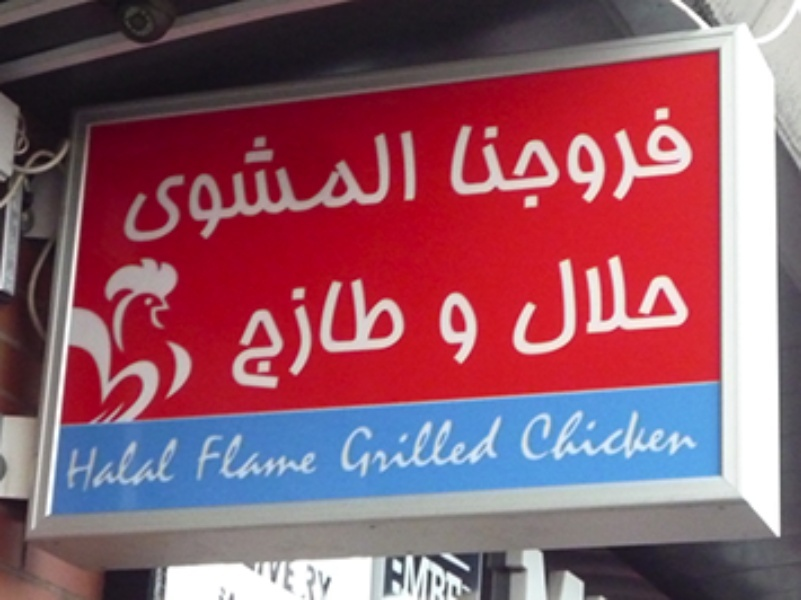text: (449, 91, 464, 215), (465, 91, 480, 215), (481, 91, 496, 215), (497, 91, 512, 215), (513, 91, 528, 215), (529, 91, 544, 215), (545, 91, 560, 215), (561, 91, 576, 215), (577, 91, 592, 215), (593, 91, 608, 215), (609, 91, 624, 215), (625, 91, 640, 215), (641, 91, 656, 215), (657, 91, 672, 215), (673, 91, 688, 215), (689, 91, 704, 215), (129, 129, 144, 246), (145, 129, 160, 246), (161, 129, 176, 246), (177, 129, 192, 246), (193, 129, 208, 246), (209, 129, 224, 246), (225, 129, 240, 246), (241, 129, 256, 246), (257, 129, 272, 246), (273, 129, 288, 246), (289, 129, 304, 246), (305, 129, 320, 246), (321, 129, 336, 246), (337, 129, 352, 246), (353, 129, 368, 246), (369, 129, 384, 246), (385, 129, 400, 246), (401, 129, 416, 246), (241, 278, 256, 391), (257, 278, 272, 391), (273, 278, 288, 391), (289, 278, 304, 391), (305, 278, 320, 391), (321, 278, 336, 391), (337, 278, 352, 391), (353, 278, 368, 391), (369, 278, 384, 391), (385, 278, 400, 391), (513, 251, 528, 357), (529, 251, 544, 357), (545, 251, 560, 357), (561, 251, 576, 357), (577, 251, 592, 357), (593, 251, 608, 357), (609, 251, 624, 357), (625, 251, 640, 357), (641, 251, 656, 357), (657, 251, 672, 357), (673, 251, 688, 357), (465, 289, 481, 366), (449, 289, 464, 366), (337, 411, 352, 481), (353, 411, 368, 481), (369, 411, 384, 481), (385, 411, 400, 481), (401, 411, 416, 481), (417, 411, 432, 481), (433, 411, 448, 481), (449, 411, 464, 481), (465, 411, 480, 481), (481, 411, 496, 481), (231, 278, 240, 391), (436, 289, 448, 366), (497, 411, 510, 481), (65, 436, 80, 494), (81, 436, 96, 494), (97, 436, 112, 494), (113, 436, 128, 494), (129, 436, 144, 494), (145, 436, 160, 494), (161, 436, 176, 494), (529, 407, 544, 463), (545, 407, 560, 463), (561, 407, 576, 463), (577, 407, 592, 463), (593, 407, 608, 463), (609, 407, 624, 463), (625, 407, 640, 463), (641, 407, 656, 463), (657, 407, 672, 463), (673, 407, 688, 463), (305, 431, 321, 483), (209, 431, 224, 483), (225, 431, 240, 483), (241, 431, 256, 483), (257, 431, 272, 483), (273, 431, 288, 483), (289, 431, 304, 483), (401, 549, 416, 598), (417, 549, 432, 598), (433, 549, 448, 598), (449, 549, 464, 598), (401, 278, 407, 391), (195, 431, 208, 483), (689, 407, 700, 463), (321, 560, 337, 598), (257, 560, 272, 598), (273, 560, 288, 598), (289, 560, 304, 598), (305, 560, 320, 598), (389, 549, 400, 598), (242, 560, 256, 598), (519, 407, 528, 463), (445, 91, 448, 215), (125, 129, 128, 246), (417, 129, 420, 246), (705, 91, 707, 215), (465, 549, 470, 598), (510, 251, 512, 357), (689, 251, 691, 357), (177, 436, 179, 494)
